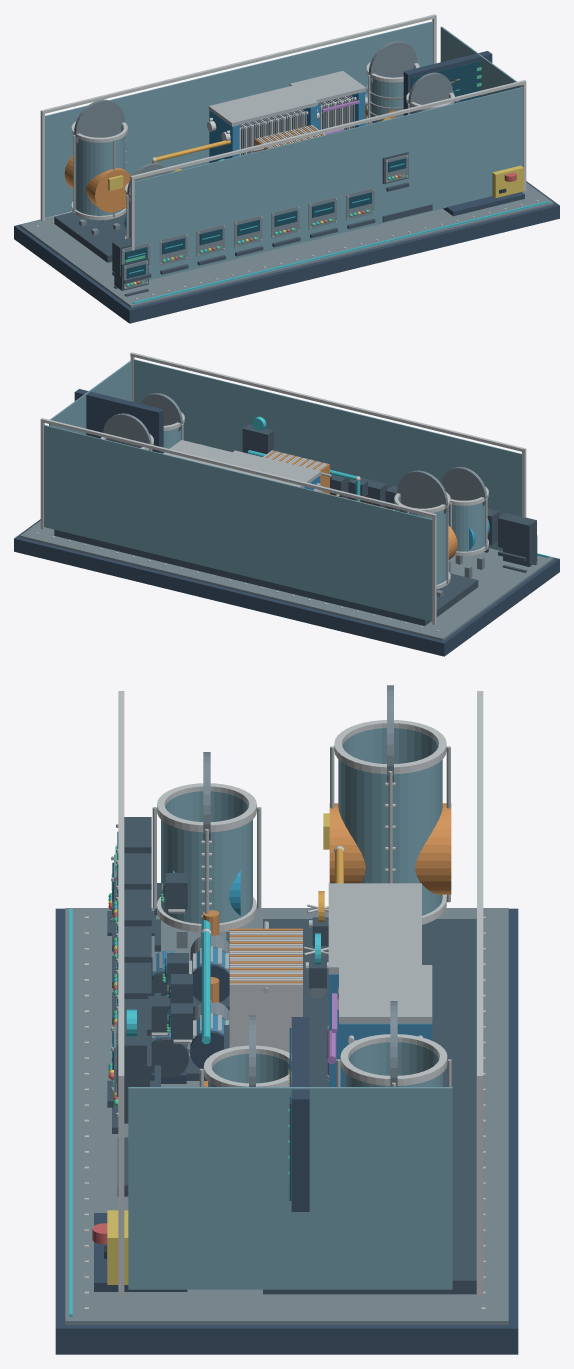
File: Level68_Complete_ArtKit_Showcase.glb
3 renders of one model, top to bottom at view 1: azimuth 30°, elevation 25°; view 2: azimuth 150°, elevation 25°; view 3: azimuth 270°, elevation 25°, orthographic. The views are drawn at different scales.
Parts seen in each view (by area): view 1: part_975, part_973, part_1, part_0, part_237, part_361, part_972, part_974, part_59, part_365, part_976, part_364 (+21 smaller); view 2: part_973, part_975, part_0, part_1, part_59, part_939, part_974, part_972, part_976, part_237, part_365, part_391 (+11 smaller); view 3: part_976, part_1, part_0, part_59, part_361, part_391, part_237, part_358, part_263, part_364, part_939, part_972 (+24 smaller).
Boxes of the visible parts, box(x1,y1,x2,y2) form: part_975: box(134, 87, 522, 280); part_973: box(45, 21, 433, 217); part_1: box(20, 183, 553, 307); part_0: box(14, 181, 559, 323); part_237: box(208, 85, 317, 126); part_361: box(75, 125, 125, 215); part_972: box(40, 14, 436, 114); part_974: box(130, 80, 526, 179); part_59: box(54, 212, 126, 262); part_365: box(74, 99, 125, 142); part_976: box(440, 26, 521, 96); part_364: box(64, 155, 130, 212); part_973: box(44, 425, 432, 621); part_975: box(133, 359, 521, 551); part_0: box(14, 519, 559, 656); part_1: box(20, 521, 553, 640); part_59: box(54, 529, 478, 625); part_939: box(74, 389, 163, 453); part_974: box(130, 352, 526, 452); part_972: box(40, 418, 436, 517); part_976: box(49, 360, 131, 434); part_237: box(214, 450, 320, 487); part_365: box(397, 470, 447, 513); part_391: box(448, 502, 485, 551); part_976: box(128, 1087, 452, 1289); part_1: box(65, 908, 508, 1324); part_0: box(55, 908, 518, 1354); part_59: box(263, 919, 476, 1294); part_361: box(338, 728, 442, 915); part_391: box(161, 791, 252, 923); part_237: box(328, 883, 421, 974); part_358: box(339, 965, 432, 1023); part_263: box(229, 983, 302, 1053); part_364: box(329, 803, 451, 894); part_939: box(291, 1017, 309, 1211); part_972: box(477, 691, 483, 1081).
Size of the model in its own units: 14.4 by 4.81 by 6.7.
